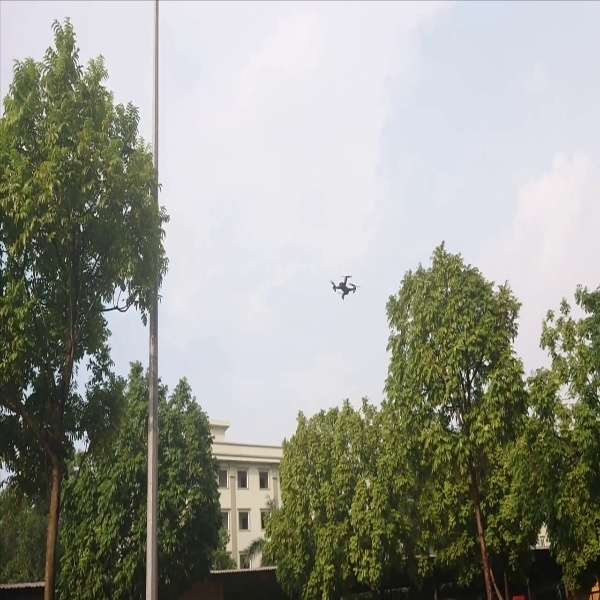drone: (328, 267, 362, 305)
